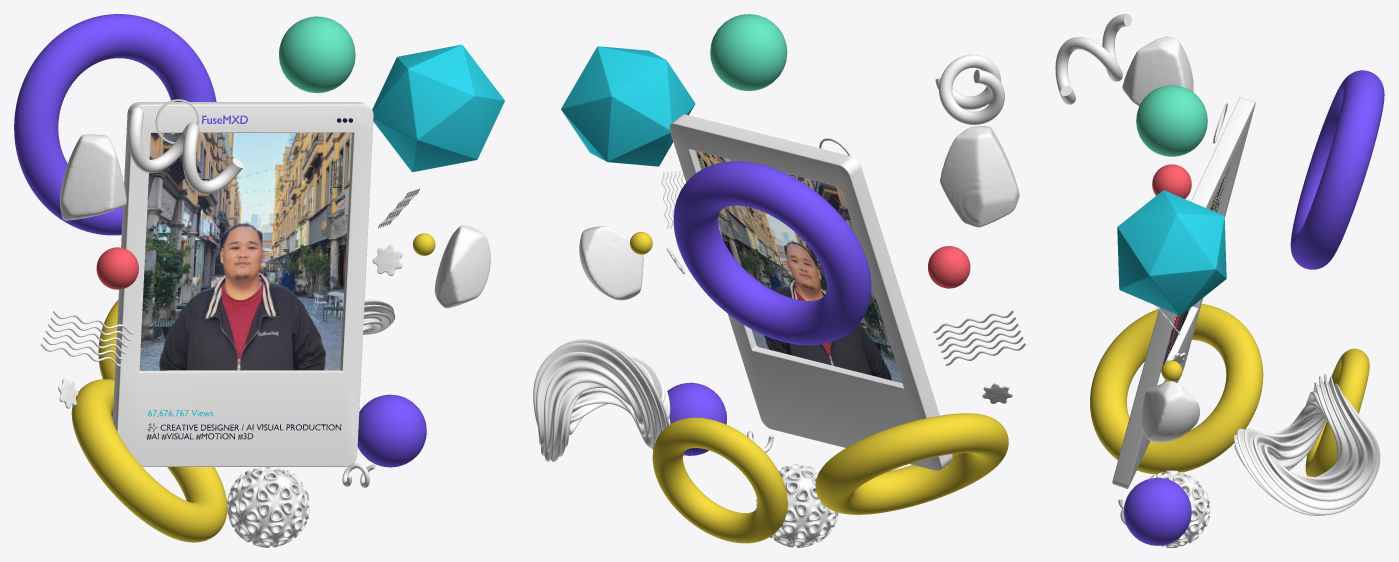
Rendered from dstk-showcase.glb.
3 views of the same model, side by side, from view 1: azimuth 30°, elevation 25°; view 2: azimuth 150°, elevation 25°; view 3: azimuth 270°, elevation 25° (orthographic). The views are drawn at different scales.
Visible parts, largest first — view 1: DSTK_Web_Showcase, Plane.001; view 2: DSTK_Web_Showcase, Plane.001; view 3: DSTK_Web_Showcase, Plane.001.
Part boxes in pixels (<box>): DSTK_Web_Showcase: <box>14,14,504,547</box>; Plane.001: <box>139,132,351,370</box>; DSTK_Web_Showcase: <box>533,14,1026,547</box>; Plane.001: <box>695,150,902,382</box>; DSTK_Web_Showcase: <box>1055,14,1384,547</box>; Plane.001: <box>1161,167,1229,371</box>.
Bounding box in the file's own units: 3.49 × 3.77 × 2.35.
10 materials, 1 textured.
